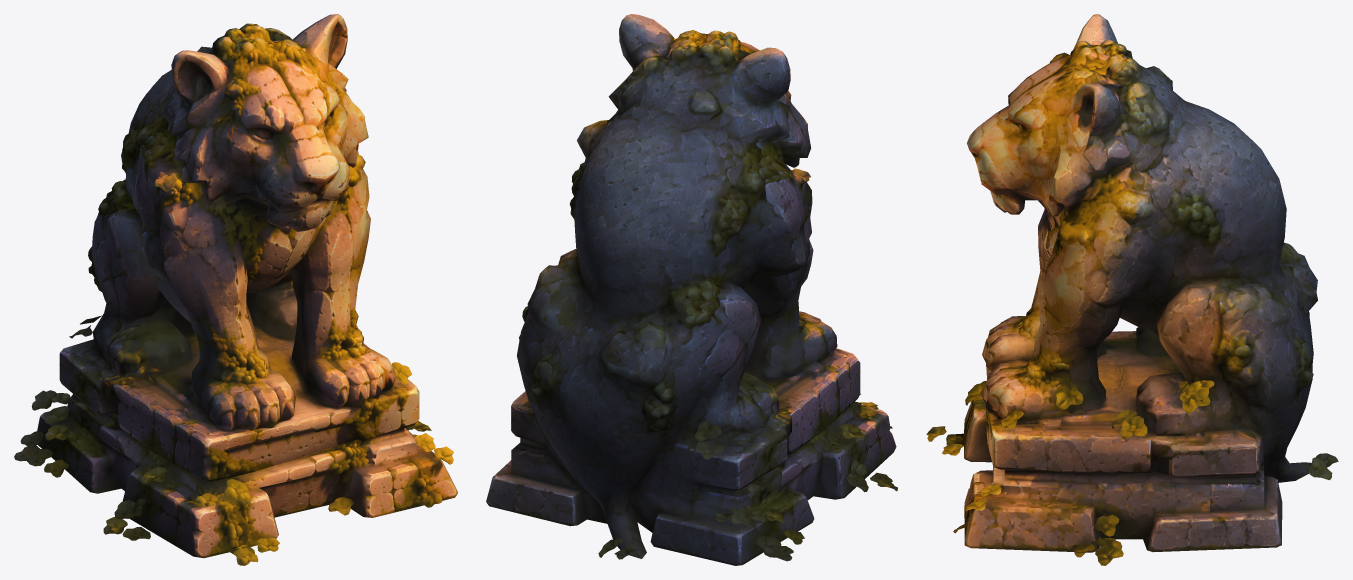
Rendered from stone+lion+statue+3d+model.fbx.
The picture shows the model from 3 angles, left to right: view 1: azimuth 30°, elevation 25°; view 2: azimuth 150°, elevation 25°; view 3: azimuth 270°, elevation 25°; orthographic projection. The views are drawn at different scales.
Visible parts, largest first — view 1: e948e98b_7508_487a_a826_242947f62f51; view 2: e948e98b_7508_487a_a826_242947f62f51; view 3: e948e98b_7508_487a_a826_242947f62f51.
Part boxes in pixels (box(x1,y1,x2,y2)): e948e98b_7508_487a_a826_242947f62f51: box(14, 14, 457, 565); e948e98b_7508_487a_a826_242947f62f51: box(486, 14, 897, 565); e948e98b_7508_487a_a826_242947f62f51: box(926, 14, 1338, 565).
Bounding box in the file's own units: 0.8228 × 0.9995 × 0.8569.
